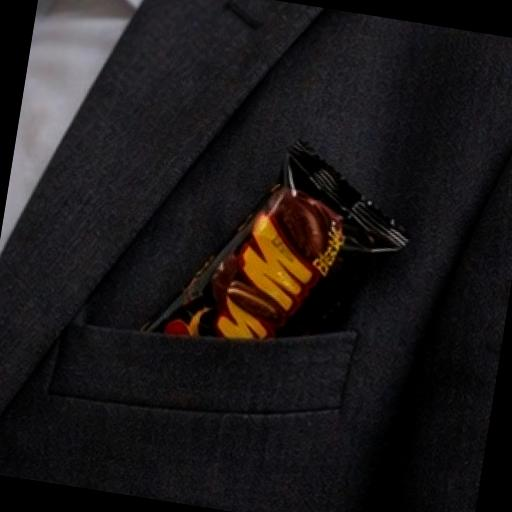MOMO: (107, 70, 464, 436)
